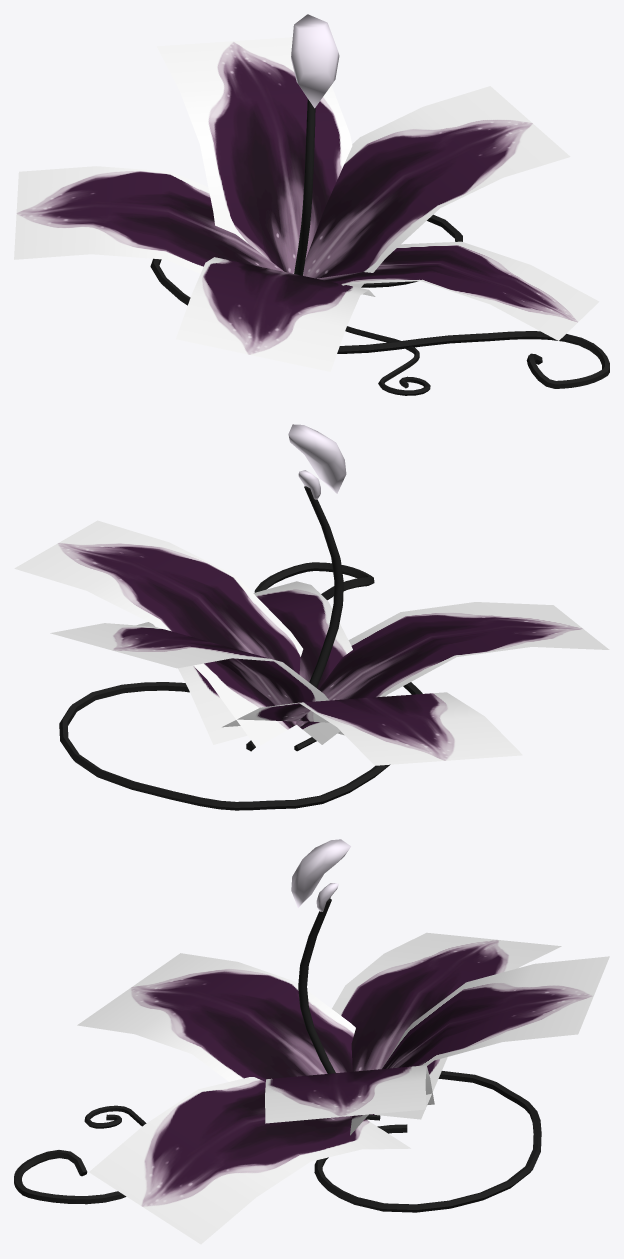
Rendered from Plant_Camille.FBX.
3 views of the same model, one above another, from view 1: azimuth 30°, elevation 25°; view 2: azimuth 150°, elevation 25°; view 3: azimuth 270°, elevation 25° (orthographic). The views are drawn at different scales.
Parts seen in each view (by area): view 1: Plant002; view 2: Plant002; view 3: Plant002.
Boxes of the visible parts, x1,y1,x2,y2 form: Plant002: (14,14,609,395); Plant002: (14,424,609,810); Plant002: (14,839,609,1244).
Size of the model in its own units: 325 by 186 by 347.
